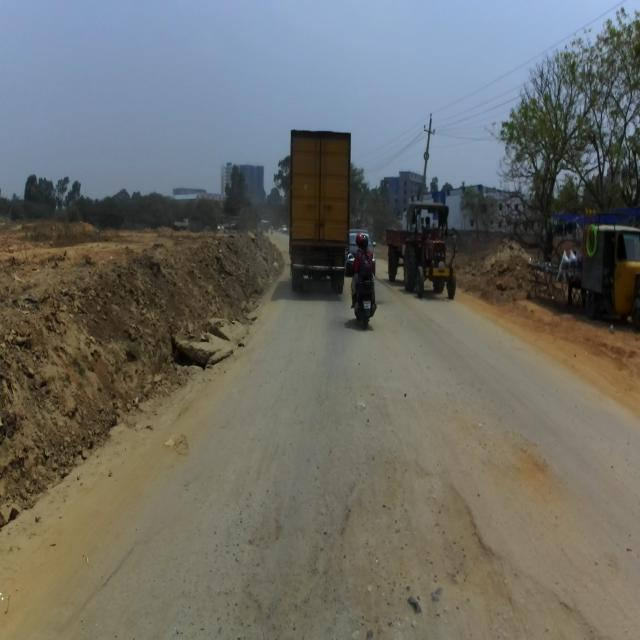truck ahead at: (287, 127, 350, 298), (384, 198, 459, 307)
